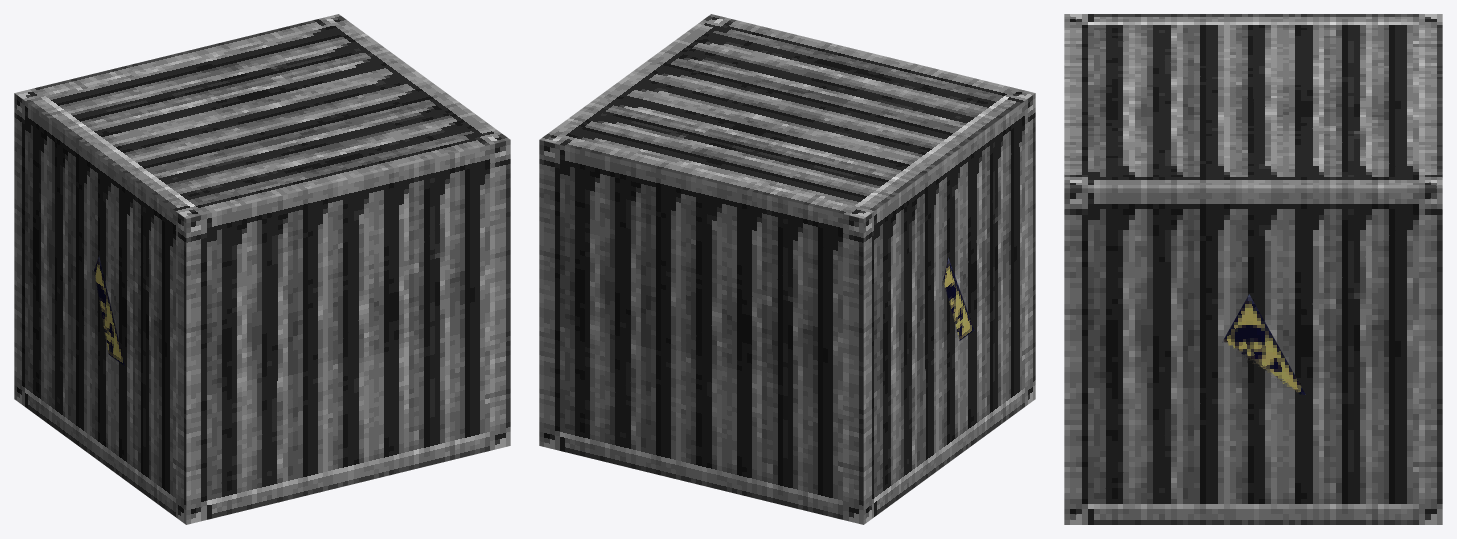
File: primary_124.glb
3 views of the same model, side by side, from view 1: azimuth 30°, elevation 25°; view 2: azimuth 150°, elevation 25°; view 3: azimuth 270°, elevation 25° (orthographic). The views are drawn at different scales.
Parts seen in each view (by area): view 1: Object; view 2: Object; view 3: Object.
Boxes of the visible parts, box(x1,y1,x2,y2) form: Object: box(14, 14, 510, 524); Object: box(539, 14, 1035, 524); Object: box(1064, 14, 1442, 524).
Size of the model in its own units: 1.38 by 1.25 by 1.27.
Materials: 2 (2 with a texture image).
